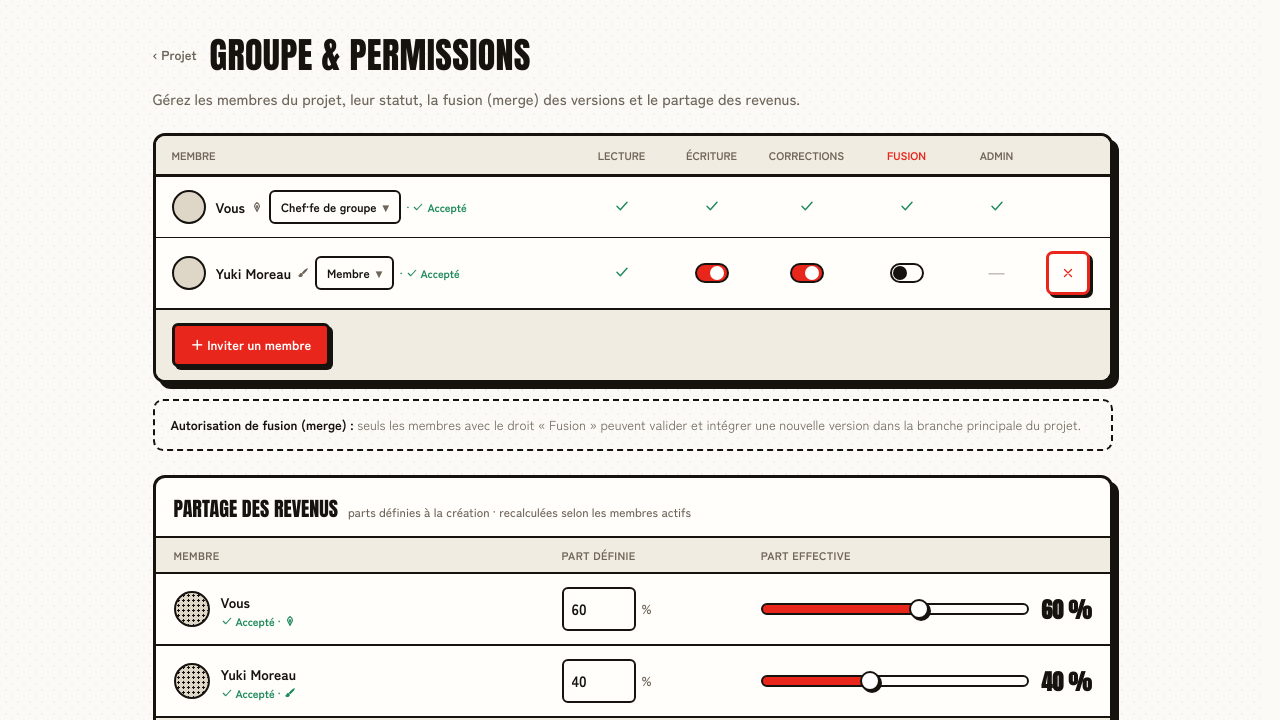
GroupePermissionsClient — revenue share slider › slider and number input share one draft (editing either moves the other)
Set the slider named "Part de Yuki Moreau" to "25" at (832, 681), box [761, 675, 1028, 687]
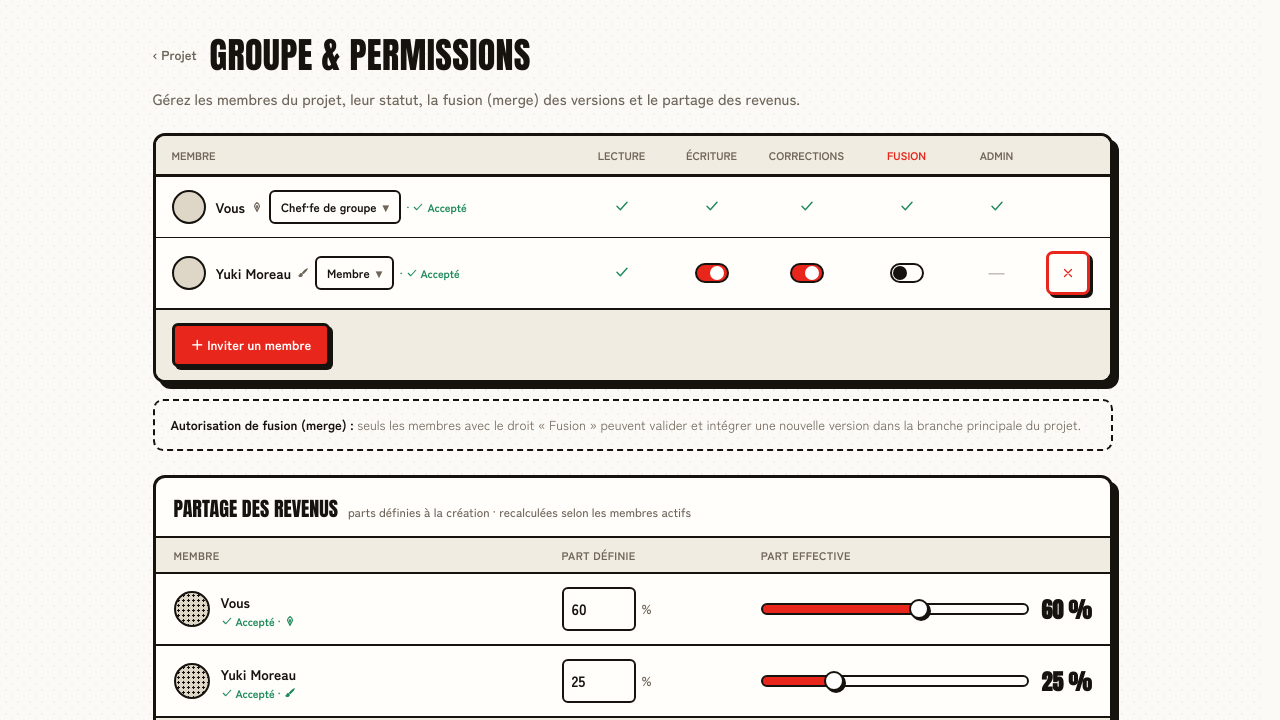
expect the number field named "Part exacte de Yuki Moreau" holds "25": met
Replace the text in the number field named "Part exacte de Yuki Moreau" with "40" at (599, 681), box [562, 659, 636, 703]
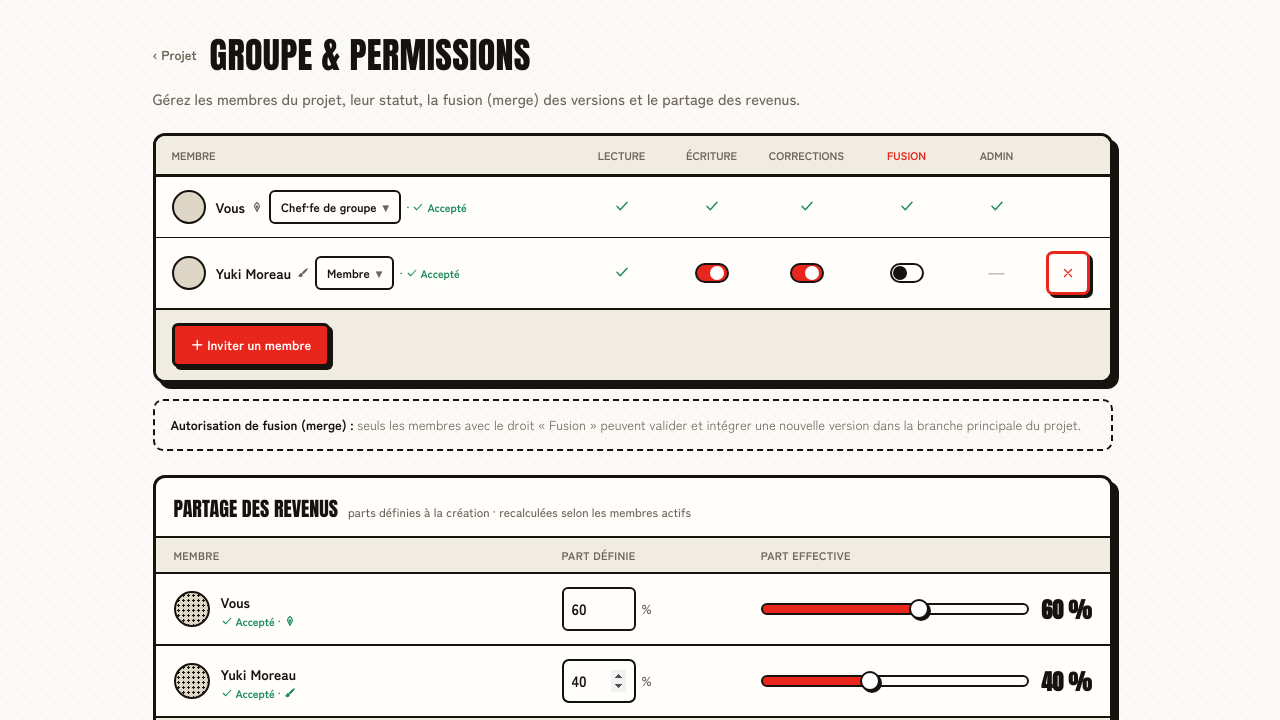
expect the slider named "Part de Yuki Moreau" holds "40": met, box [761, 675, 1028, 687]
